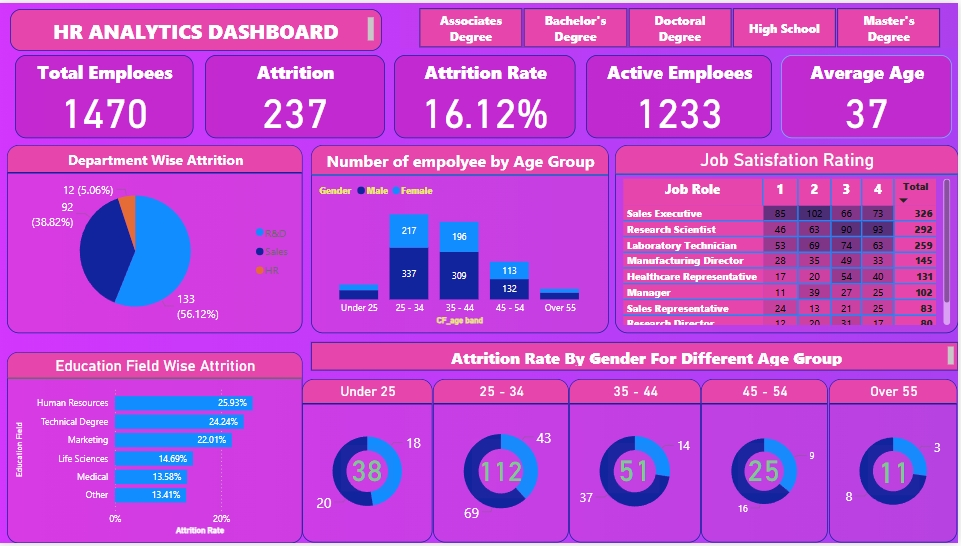

What the dashboard file says about the page in this screenshot:
{"tool":"powerbi","page":{"name":"Page 1","canvas":[1280,720],"ordinal":0},"visuals":[{"type":"card","title":"Total Emploees","fields":{"Values":["Sum(Table3.Employee Count)"]},"box":[22.7,69.4,238.1,110.6],"z":0},{"type":"card","title":"Attrition","fields":{"Values":["Sum(Table3.CF_attrition count)"]},"box":[276.4,69.4,239.5,110.6],"z":1000},{"type":"card","title":"Attrition Rate","fields":{"Values":["Table3.Attrition Rate"]},"box":[528.7,69.4,242.4,110.6],"z":2000},{"type":"card","title":"Active Emploees","fields":{"Values":["Table3.Active Employees"]},"box":[783.8,69.4,248,110.6],"z":3000},{"type":"card","title":"Average Age","fields":{"Values":["Avg(Table3.Age)"]},"box":[1044.6,69.4,228.2,110.6],"z":4000},{"type":"pieChart","title":"Department Wise Attrition","fields":{"Category":["Table3.Department"],"Y":["Sum(Table3.CF_attrition count)"]},"box":[11.3,189.9,394,250.9],"z":5000},{"type":"columnChart","title":"Number of empolyee by  Age Group","fields":{"Category":["Table3.CF_age band"],"Y":["Sum(Table3.Employee Count)"],"Series":["Table3.Gender"]},"box":[416.7,189.9,396.9,250.9],"z":6000},{"type":"pivotTable","title":"Job Satisfation Rating","fields":{"Rows":["Table3.Job Role"],"Columns":["Table3.Job Satisfaction"],"Values":["Sum(Table3.Employee Count)"]},"box":[822,189.9,457.8,250.9],"z":7000},{"type":"barChart","title":"Education Field Wise Attrition ","fields":{"Category":["Table3.Education Field"],"Y":["Table3.Attrition Rate"]},"box":[11.3,464.9,394,255.1],"z":8000},{"type":"donutChart","title":"Under 25","fields":{"Category":["Table3.Gender"],"Y":["Sum(Table3.CF_attrition count)"],"Series":["Table3.CF_age band"]},"box":[405.4,501.7,174.3,218.3],"z":9000},{"type":"textbox","box":[416.7,452.1,863.1,38.3],"z":10000},{"type":"donutChart","title":"25 - 34","fields":{"Category":["Table3.Gender"],"Y":["Sum(Table3.CF_attrition count)"],"Series":["Table3.CF_age band"]},"box":[579.7,501.7,181.4,218.3],"z":11000},{"type":"donutChart","title":"35 - 44","fields":{"Category":["Table3.Gender"],"Y":["Sum(Table3.CF_attrition count)"],"Series":["Table3.CF_age band"]},"box":[761.1,501.7,175.7,218.3],"z":12000},{"type":"donutChart","title":"45 - 54","fields":{"Category":["Table3.Gender"],"Y":["Sum(Table3.CF_attrition count)"],"Series":["Table3.CF_age band"]},"box":[936.9,501.7,168.7,218.3],"z":13000},{"type":"donutChart","title":"Over 55","fields":{"Category":["Table3.Gender"],"Y":["Sum(Table3.CF_attrition count)"],"Series":["Table3.CF_age band"]},"box":[1108.3,501.7,171.5,218.3],"z":14000},{"type":"card","fields":{"Values":["Sum(Table3.CF_attrition count)"]},"box":[457.8,589.6,69.4,62.4],"z":15000},{"type":"card","fields":{"Values":["Sum(Table3.CF_attrition count)"]},"box":[632.1,581.1,76.5,79.4],"z":16000},{"type":"card","fields":{"Values":["Sum(Table3.CF_attrition count)"]},"box":[813.5,586.8,69.4,66.6],"z":17000},{"type":"card","fields":{"Values":["Sum(Table3.CF_attrition count)"]},"box":[986.5,586.8,69.4,66.6],"z":18000},{"type":"card","fields":{"Values":["Sum(Table3.CF_attrition count)"]},"box":[1159.4,589.6,69.4,66.6],"z":19000},{"type":"textbox","box":[16,8,496,56],"z":20000},{"type":"slicer","fields":{"Values":["Table3.Education"]},"box":[535.6,0,744.4,60],"z":21000}]}

Visuals, with their boxes in screenshot pixels (x1, y1, x2, y2), scaled from the page's 1280x720 canvas onto the 961x546 screenshot:
"Total Emploees" card: 17, 53, 196, 136
"Attrition" card: 208, 53, 387, 136
"Attrition Rate" card: 397, 53, 579, 136
"Active Emploees" card: 588, 53, 775, 136
"Average Age" card: 784, 53, 956, 136
"Department Wise Attrition" pieChart: 8, 144, 304, 334
"Number of empolyee by  Age Group" columnChart: 313, 144, 611, 334
"Job Satisfation Rating" pivotTable: 617, 144, 960, 334
"Education Field Wise Attrition " barChart: 8, 353, 304, 545
"Under 25" donutChart: 304, 380, 435, 545
textbox: 313, 343, 960, 372
"25 - 34" donutChart: 435, 380, 571, 545
"35 - 44" donutChart: 571, 380, 703, 545
"45 - 54" donutChart: 703, 380, 830, 545
"Over 55" donutChart: 832, 380, 960, 545
card - Sum(Table3.CF_attrition count): 344, 447, 396, 494
card - Sum(Table3.CF_attrition count): 475, 441, 532, 501
card - Sum(Table3.CF_attrition count): 611, 445, 663, 495
card - Sum(Table3.CF_attrition count): 741, 445, 793, 495
card - Sum(Table3.CF_attrition count): 870, 447, 923, 498
textbox: 12, 6, 384, 49
slicer - Table3.Education: 402, 0, 960, 46
